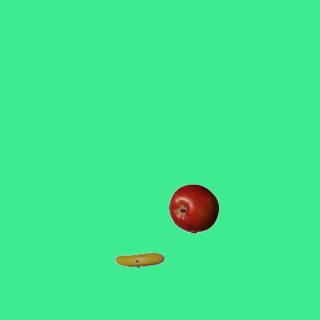Apple Braeburn: (168, 183, 218, 233)
Banana: (114, 235, 164, 285)
